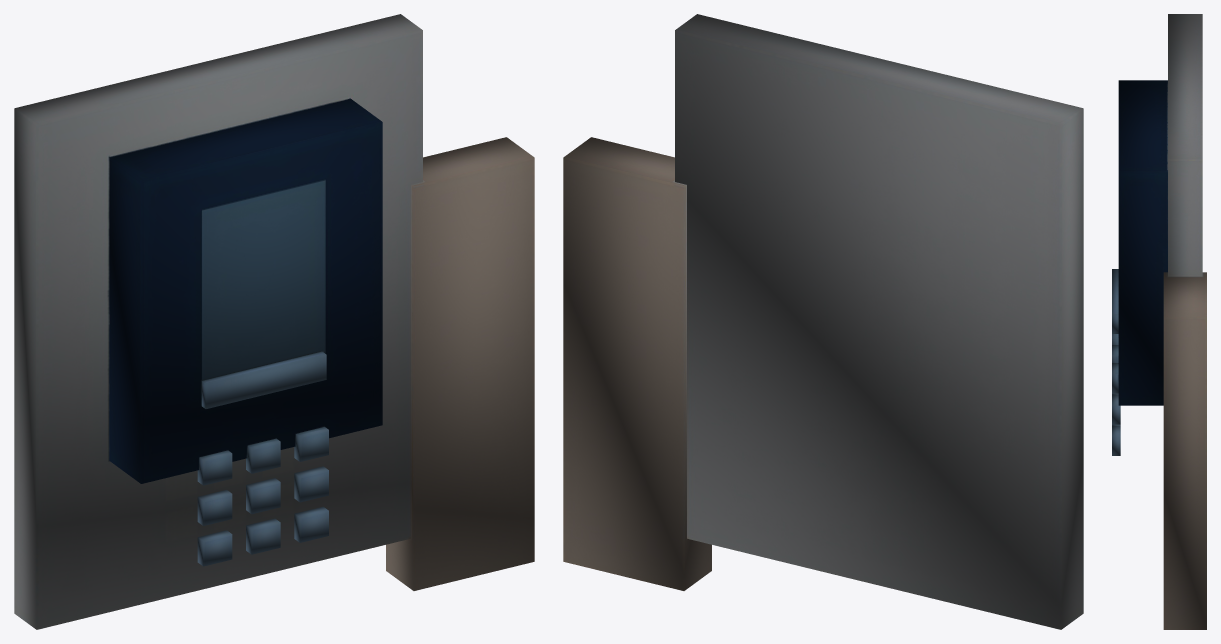
The model's file is yard-access-node-body-tripo-original.glb.
3 views of the same model, side by side, from view 1: azimuth 30°, elevation 25°; view 2: azimuth 150°, elevation 25°; view 3: azimuth 270°, elevation 25° (orthographic). The views are drawn at different scales.
Parts seen in each view (by area): view 1: Authored_surface_077; view 2: Authored_surface_077; view 3: Authored_surface_077.
Boxes of the visible parts, box(x1,y1,x2,y2) form: Authored_surface_077: box(14, 14, 534, 629); Authored_surface_077: box(563, 14, 1083, 629); Authored_surface_077: box(1112, 14, 1206, 629).
Size of the model in its own units: 0.9318 by 1 by 0.2.
Materials: 1 (1 with a texture image).
